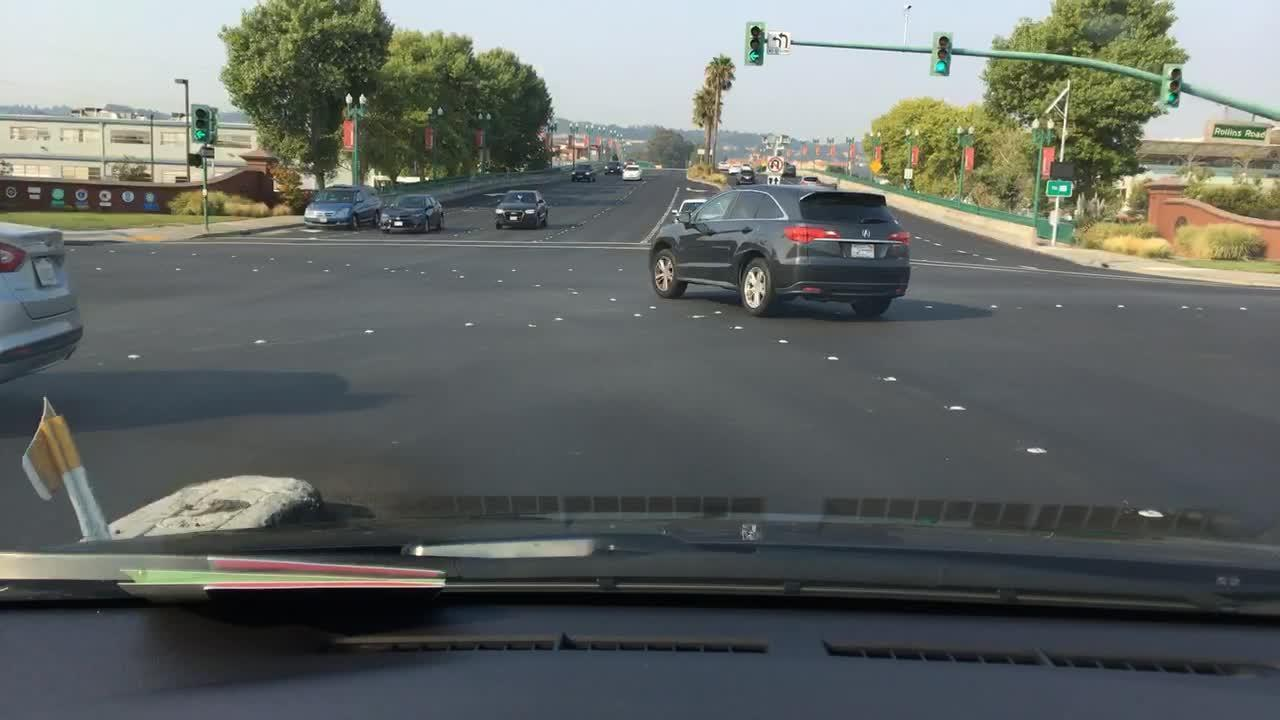acura: (859, 226, 874, 240)
